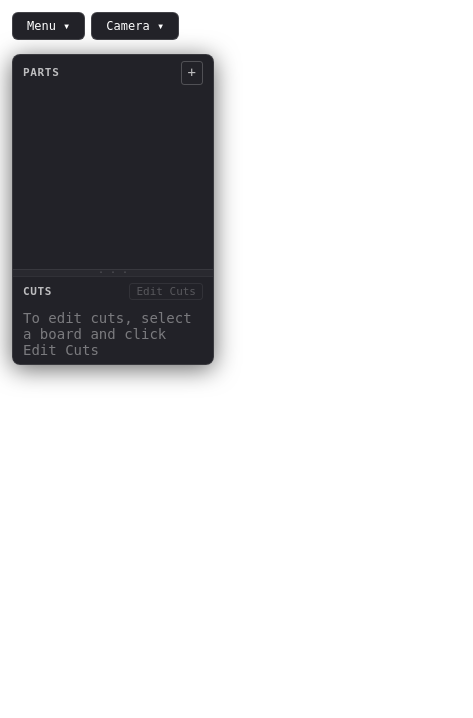
Test: Help Panel › closes when close button is clicked
This screenshot has width=473, height=718.
Click the button with id "menu-btn" at (49, 26), box [12,12,85,40]
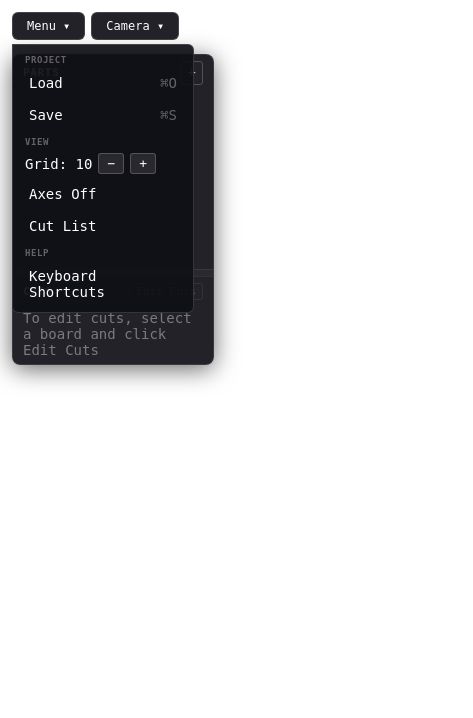
Click the button "Keyboard Shortcuts" at (103, 284), box [13,260,193,308]
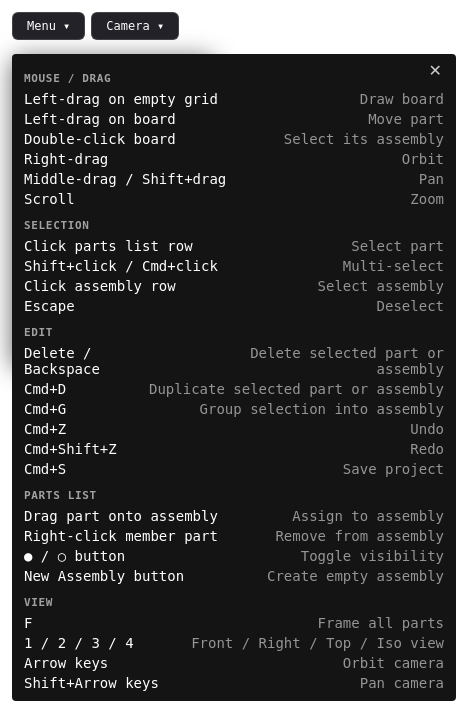
Expected: the element with id "help-pane" is shown
Click the button with id "help-pane-close" at (435, 70), box [423,60,448,81]
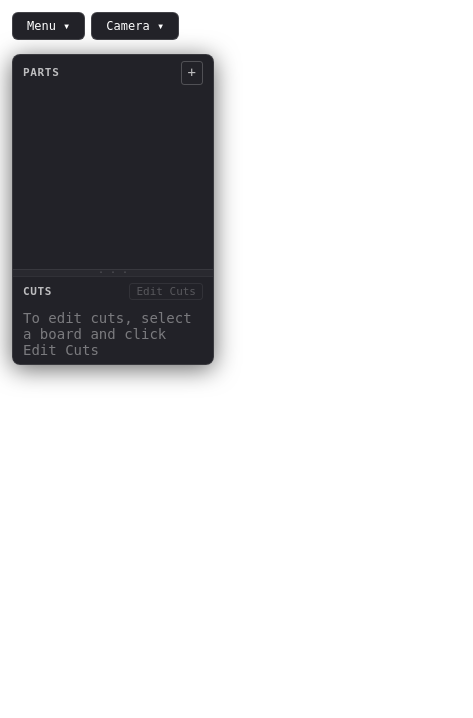
Expected: the element with id "help-pane" is gone
